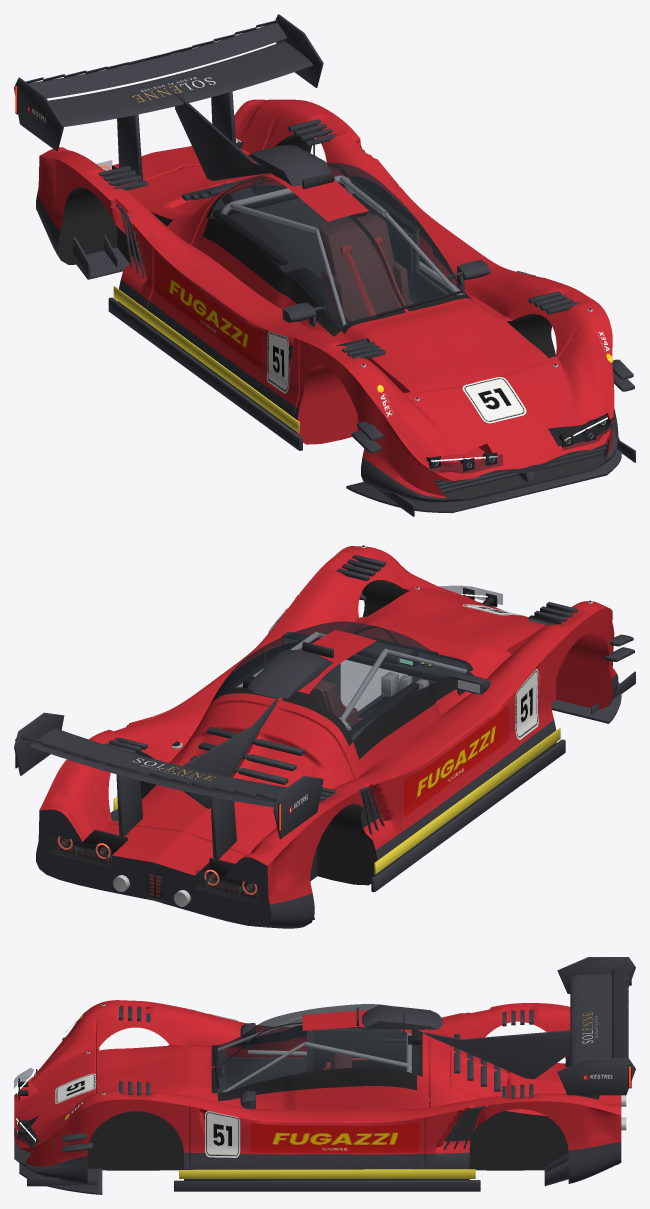
The model's file is fugazzi_lmp2.glb.
3 renders of one model, top to bottom at view 1: azimuth 30°, elevation 25°; view 2: azimuth 150°, elevation 25°; view 3: azimuth 270°, elevation 25°, orthographic. The views are drawn at different scales.
Parts seen in each view (by area): view 1: fugazzi_lmp2; view 2: fugazzi_lmp2; view 3: fugazzi_lmp2.
Part boxes in pixels (box(x1,y1,x2,y2)): fugazzi_lmp2: box(14, 14, 635, 516); fugazzi_lmp2: box(14, 545, 635, 928); fugazzi_lmp2: box(14, 957, 635, 1194).
Size of the model in its own units: 1.93 by 1.21 by 4.87.
29 materials, 4 textured.
